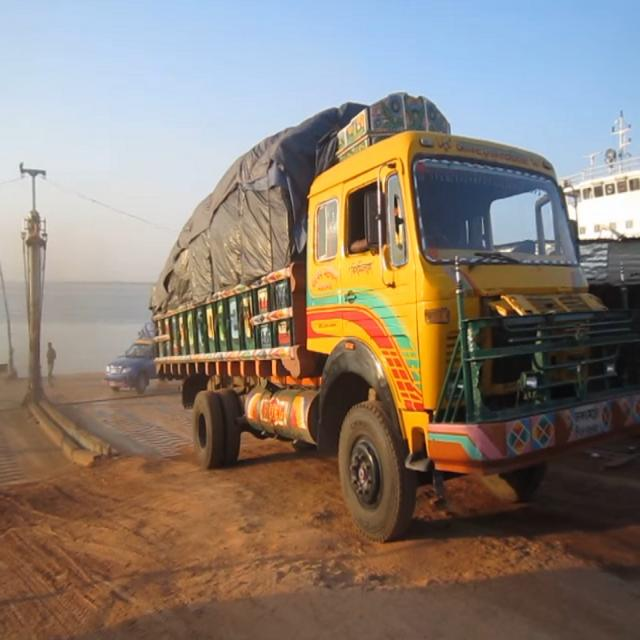car: (104, 334, 152, 407)
truck: (151, 48, 614, 556)
